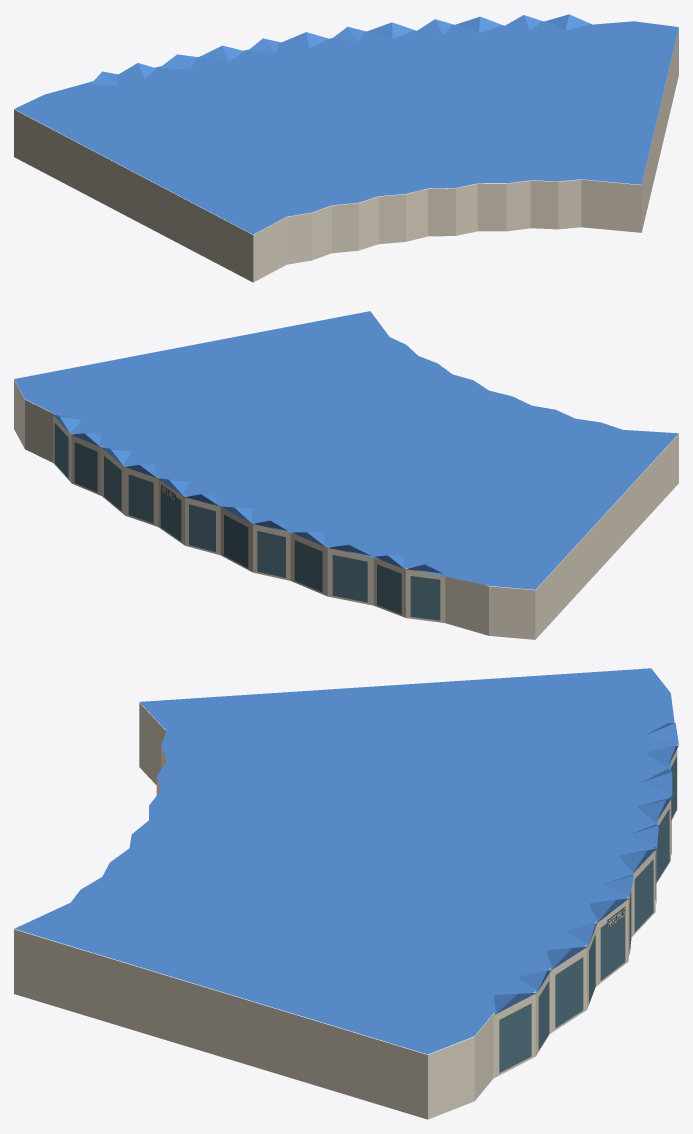
File: apt_arrivals.glb
The picture shows the model from 3 angles, top to bottom: view 1: azimuth 30°, elevation 25°; view 2: azimuth 150°, elevation 25°; view 3: azimuth 270°, elevation 25°; orthographic projection. The views are drawn at different scales.
Visible parts, largest first — view 1: apt_arrivals_lod0; view 2: apt_arrivals_lod0; view 3: apt_arrivals_lod0.
Part boxes in pixels (x1,y1,x2,y2): apt_arrivals_lod0: (14,14,678,282); apt_arrivals_lod0: (14,311,678,639); apt_arrivals_lod0: (14,668,678,1119).
Size of what is drawn, in the model's own units: 83.9 by 7.6 by 61.05.
